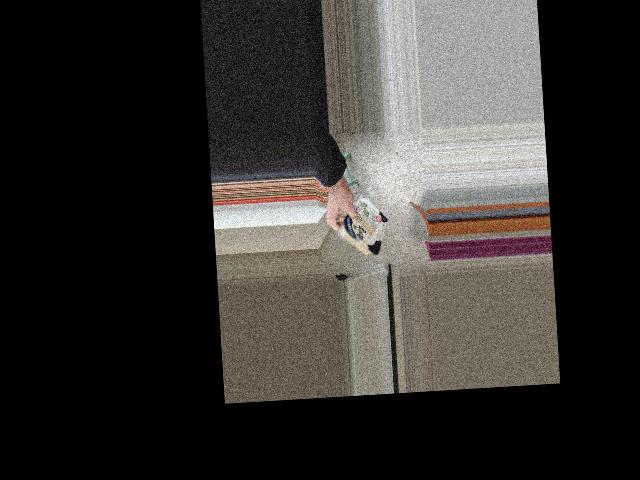cheese: (320, 199, 397, 258)
